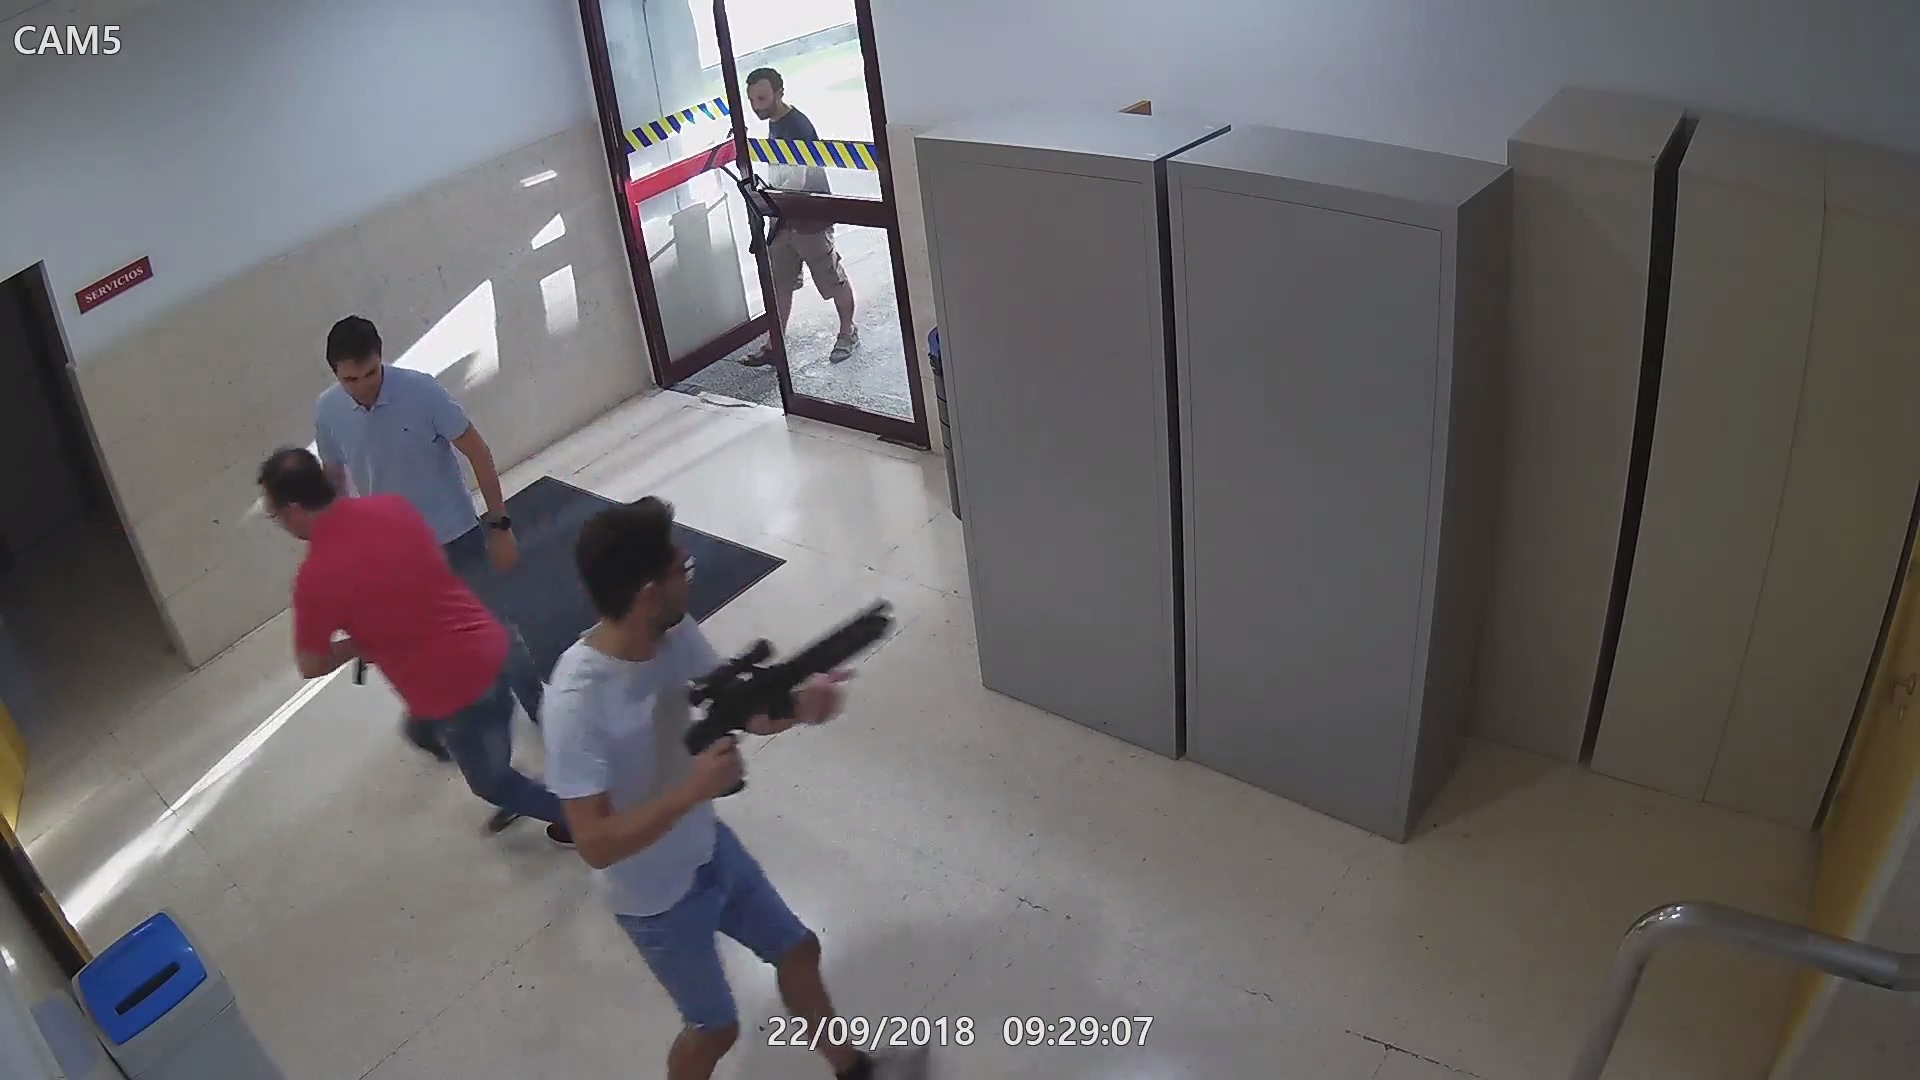Short_rifle: (676, 592, 903, 802)
